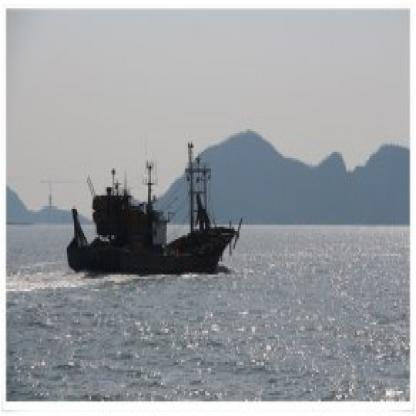fish-b: (62, 133, 246, 281)
